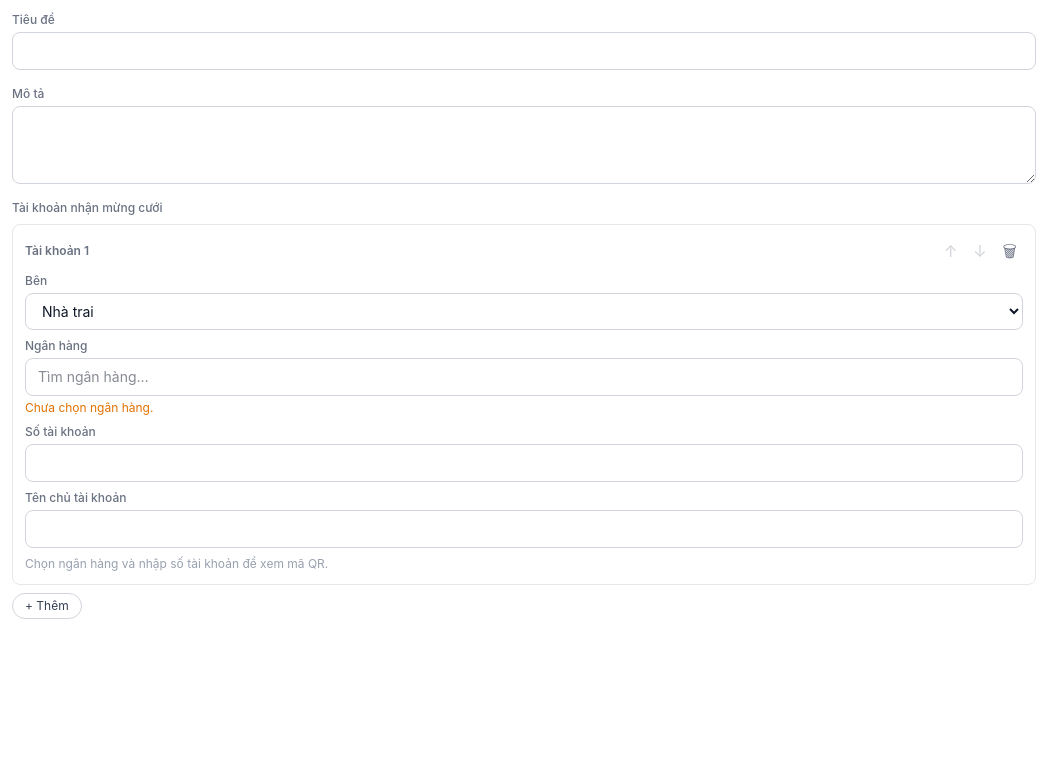
Test case: GiftPanel › uppercases and strips diacritics from the account name as the user types
The image size is (1048, 780).
Type "nguyễn văn an" into the field labelled "Tên chủ tài khoản" at (524, 529), box [25,510,1023,548]
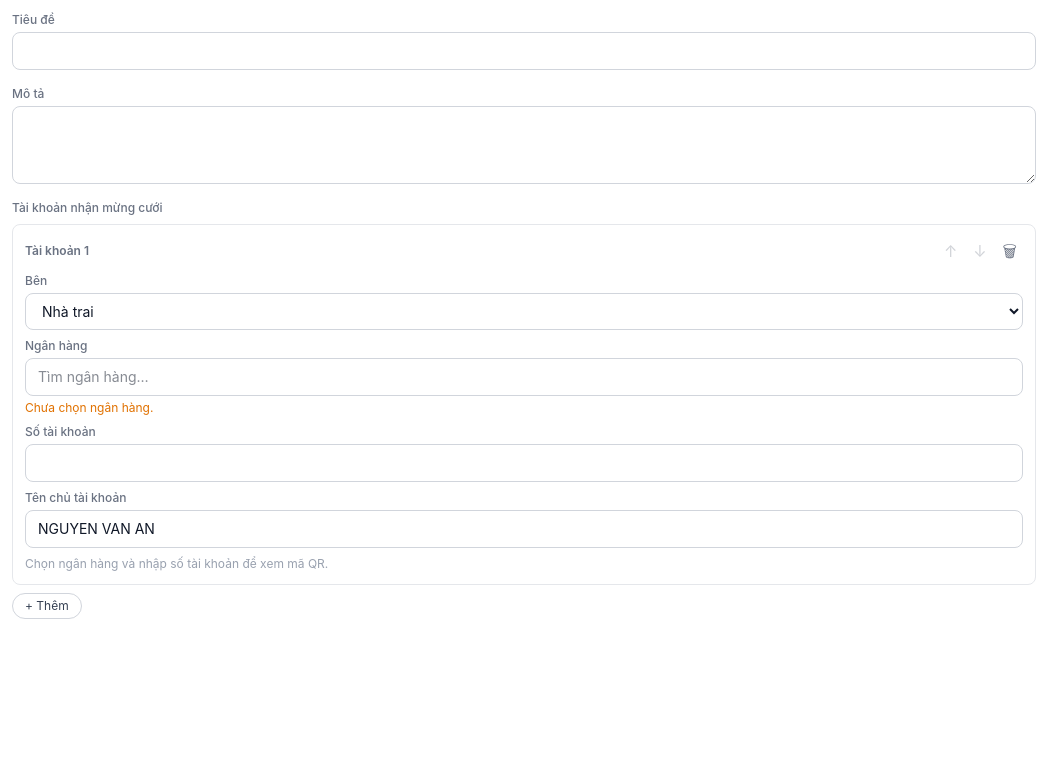
Now the field labelled "Tên chủ tài khoản" holds "NGUYEN VAN AN", box [25,510,1023,548]
